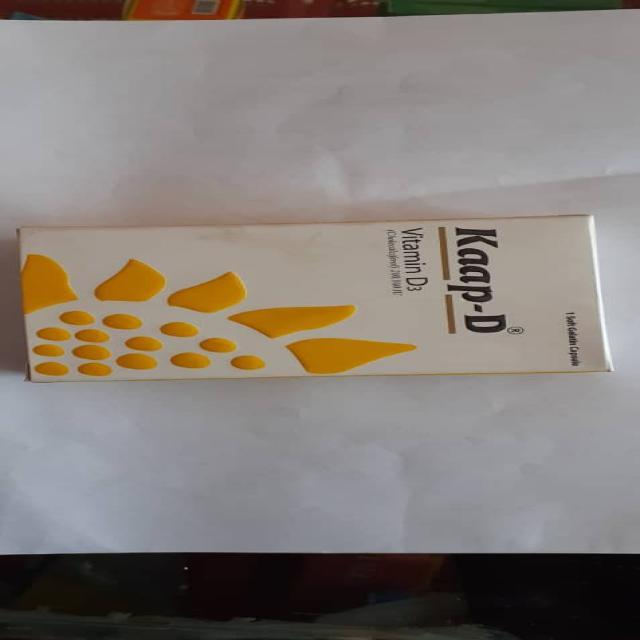drug-name: (444, 224, 524, 343)
